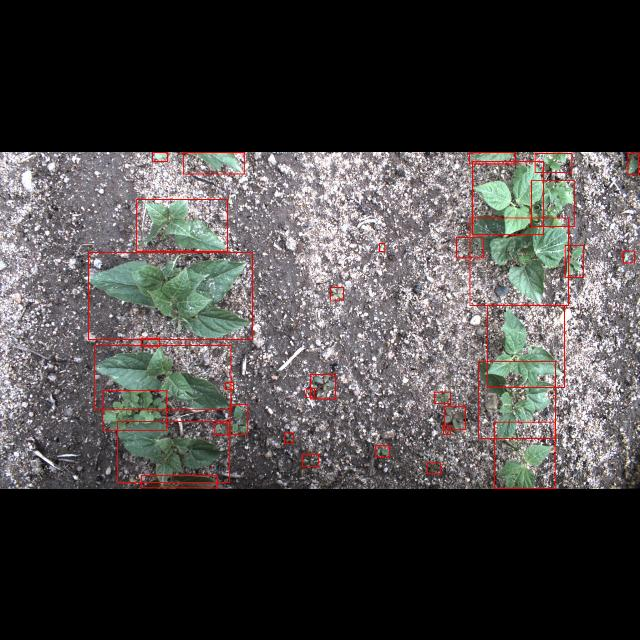crop: (88, 251, 252, 339), (95, 344, 232, 410), (469, 217, 568, 305), (118, 422, 230, 482), (488, 305, 564, 387), (478, 362, 556, 438), (472, 160, 544, 233), (136, 199, 228, 251), (494, 422, 556, 488), (182, 151, 244, 173), (141, 475, 217, 487), (469, 151, 515, 163)
weed: (103, 390, 167, 430), (532, 180, 574, 226), (534, 152, 572, 172), (564, 245, 584, 277), (310, 374, 336, 398), (456, 237, 484, 257), (230, 404, 248, 434), (444, 406, 466, 430), (628, 152, 638, 174), (302, 454, 318, 466), (434, 391, 450, 403), (331, 286, 344, 300), (141, 338, 159, 347), (427, 462, 441, 473), (214, 422, 228, 433), (376, 446, 390, 456), (152, 152, 168, 160), (624, 250, 634, 262), (284, 432, 294, 443), (306, 388, 314, 397), (225, 382, 233, 390), (444, 426, 451, 434), (379, 243, 385, 251)
